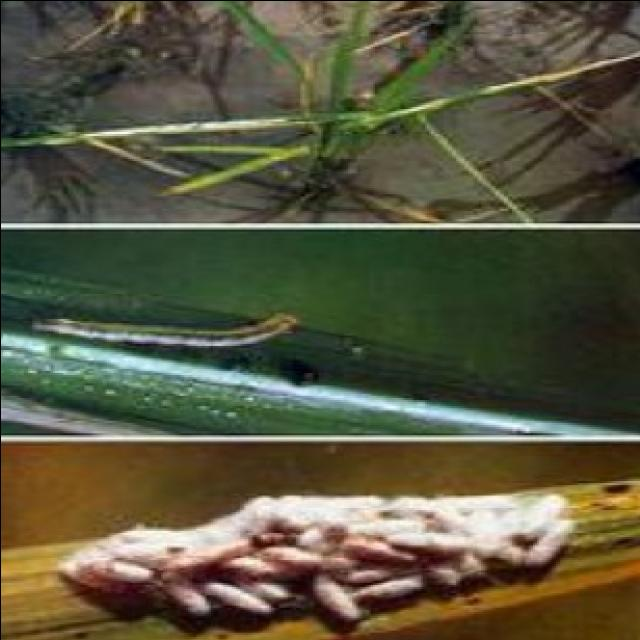rice leaf roller: (60, 492, 574, 625), (33, 312, 297, 345)
